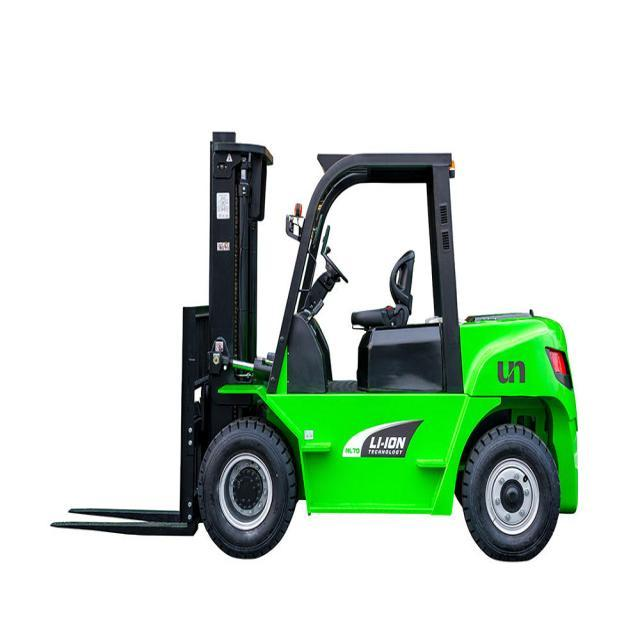forklift: (168, 122, 582, 566)
